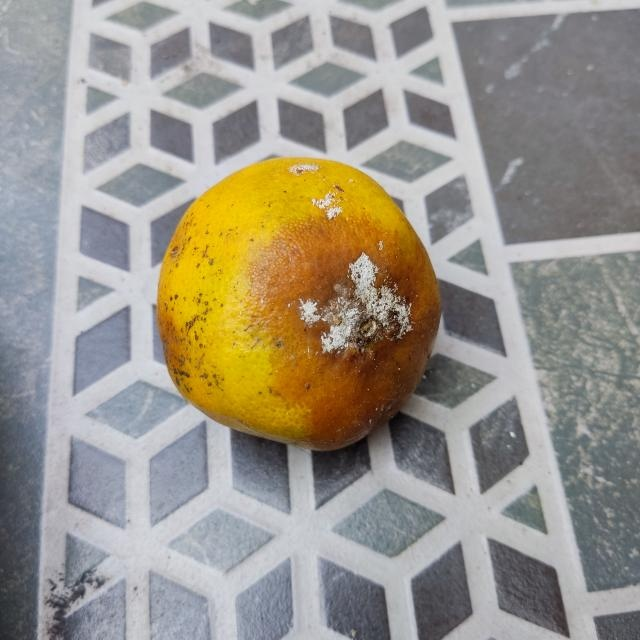agrume: (157, 153, 443, 451)
